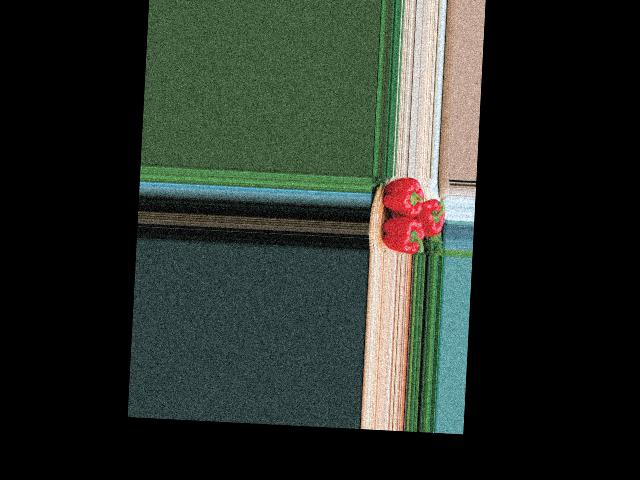bell_pepper: (376, 210, 426, 254)
